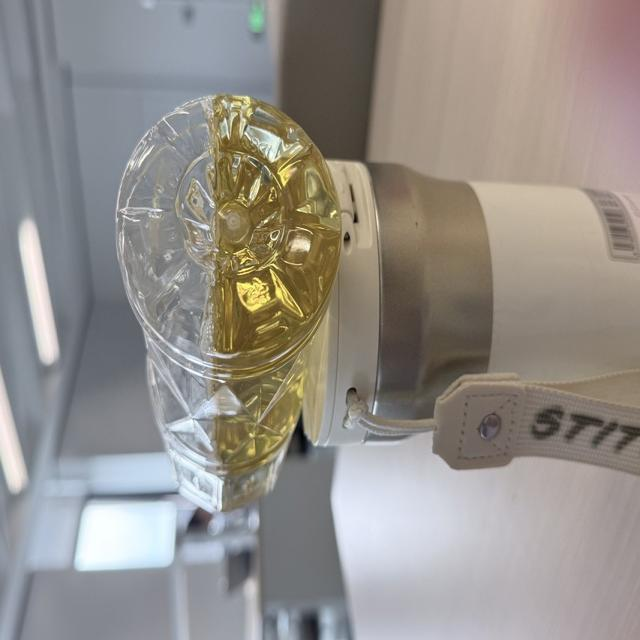medium: (116, 96, 341, 510)
